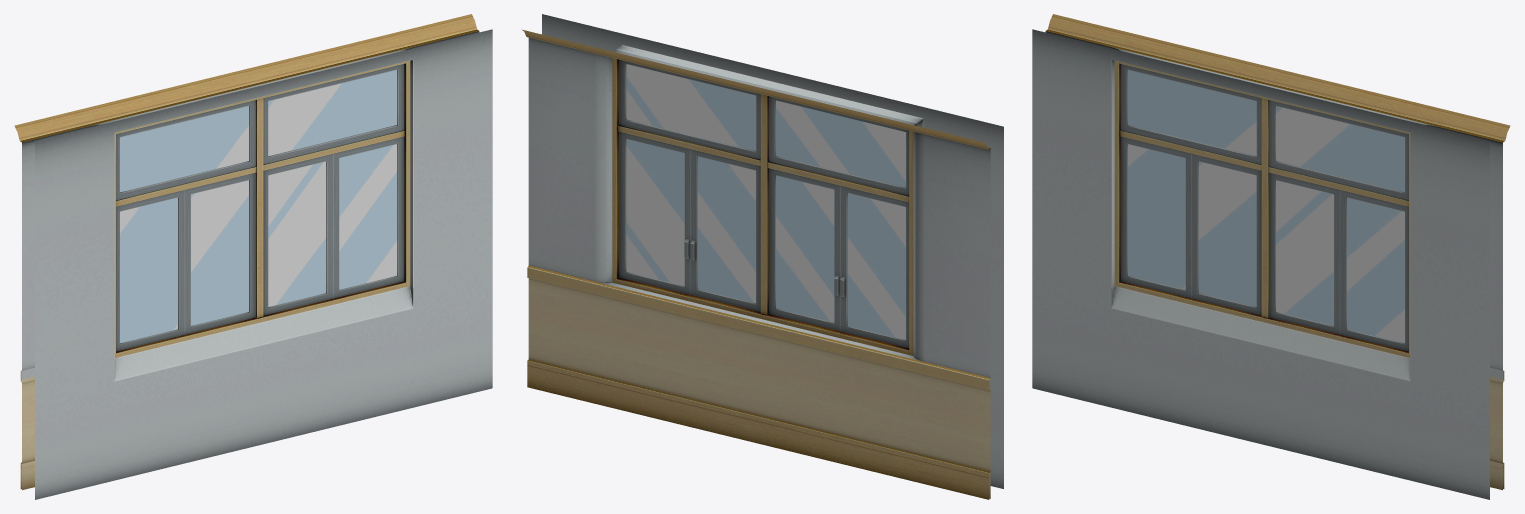
Rendered from ExteriorWindow (merge).fbx.
3 views of the same model, side by side, from view 1: azimuth 30°, elevation 25°; view 2: azimuth 150°, elevation 25°; view 3: azimuth 330°, elevation 25° (orthographic).
Visible parts, largest first — view 1: Exterior_Wall_with_Window, Window, ExteriorWindow (1), Exterior_Window, Window 5 1, Window 3, Window 6, Window 4, FarLeftFrame, NearLeftFrame, NearRightFrame, FarRightFrame; view 2: ExteriorWindow (1), Window, Exterior_Wall_with_Window, Exterior_Window, Window 6, Window 5 1, Window 4, Window 3, FarLeftFrame, NearRightFrame, NearLeftFrame, FarRightFrame; view 3: Exterior_Wall_with_Window, Window, ExteriorWindow (1), Exterior_Window, Window 6, Window 4, Window 5 1, Window 3, FarRightFrame, NearRightFrame, NearLeftFrame, FarLeftFrame.
Part boxes in pixels (box(x1,y1,x2,y2)): Exterior_Wall_with_Window: box(35, 29, 492, 499); Window: box(120, 70, 397, 192); ExteriorWindow (1): box(14, 14, 479, 490); Exterior_Window: box(114, 61, 410, 357); Window 5 1: box(268, 161, 326, 306); Window 3: box(339, 144, 397, 289); Window 6: box(191, 180, 248, 325); Window 4: box(120, 197, 177, 343); FarLeftFrame: box(333, 136, 404, 298); NearLeftFrame: box(263, 154, 333, 315); NearRightFrame: box(185, 172, 255, 334); FarRightFrame: box(116, 190, 184, 351); ExteriorWindow (1): box(522, 29, 990, 499); Window: box(626, 64, 905, 187); Exterior_Wall_with_Window: box(542, 14, 1003, 488); Exterior_Window: box(612, 58, 913, 355); Window 6: box(776, 175, 834, 322); Window 5 1: box(697, 156, 755, 303); Window 4: box(847, 193, 905, 339); Window 3: box(626, 139, 684, 285); FarLeftFrame: box(619, 131, 690, 294); NearRightFrame: box(769, 168, 840, 331); NearLeftFrame: box(690, 149, 760, 311); FarRightFrame: box(840, 185, 909, 347); Exterior_Wall_with_Window: box(1032, 29, 1489, 499); Window: box(1127, 70, 1404, 192); ExteriorWindow (1): box(1045, 14, 1510, 490); Exterior_Window: box(1114, 61, 1410, 357); Window 6: box(1198, 161, 1256, 306); Window 4: box(1127, 144, 1185, 289); Window 5 1: box(1276, 180, 1333, 325); Window 3: box(1347, 197, 1404, 343); FarRightFrame: box(1120, 136, 1191, 298); NearRightFrame: box(1191, 154, 1261, 315); NearLeftFrame: box(1269, 172, 1339, 334); FarLeftFrame: box(1340, 190, 1408, 351).
Bounding box in the file's own units: 4.06 × 3.05 × 0.3207.
5 materials, 5 textured.
